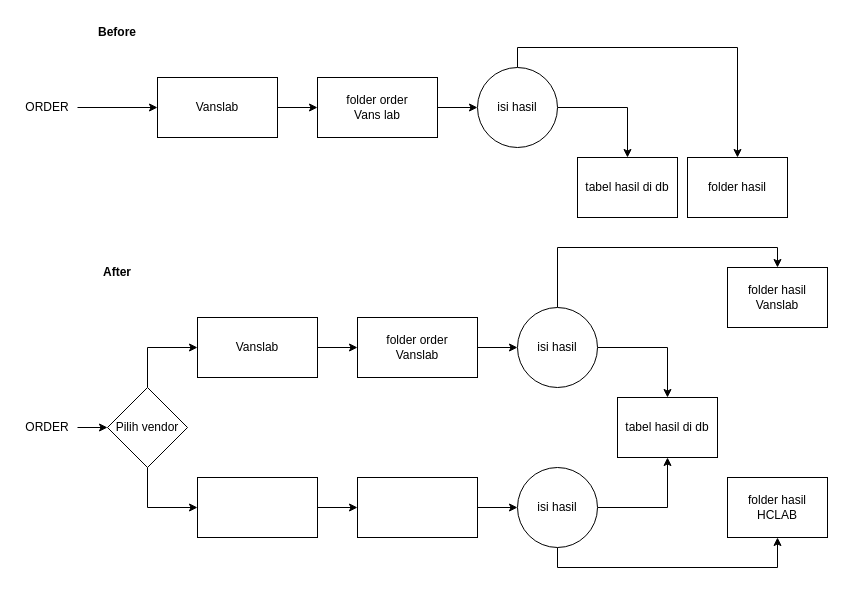
This 845x593 diagram has some shape labels left out. The centre of each missing label's shape, as x and y in pixels:
API: [417,507]
Sysmex (hclab): [257,507]
